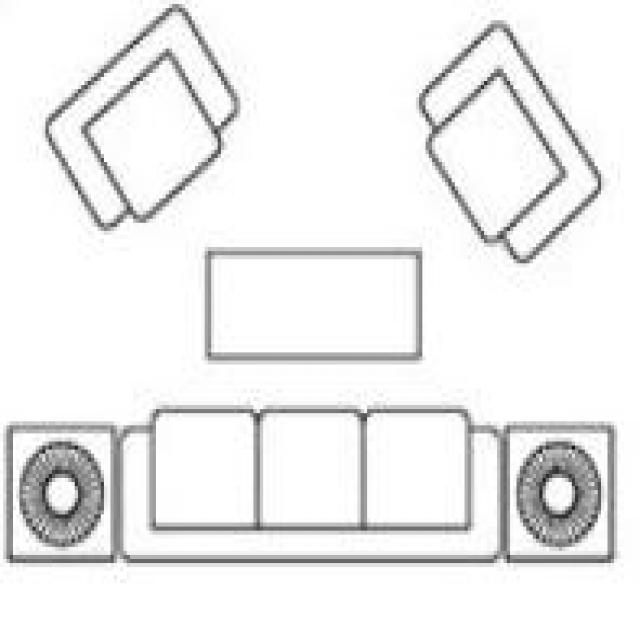sofa: (0, 0, 617, 559)
